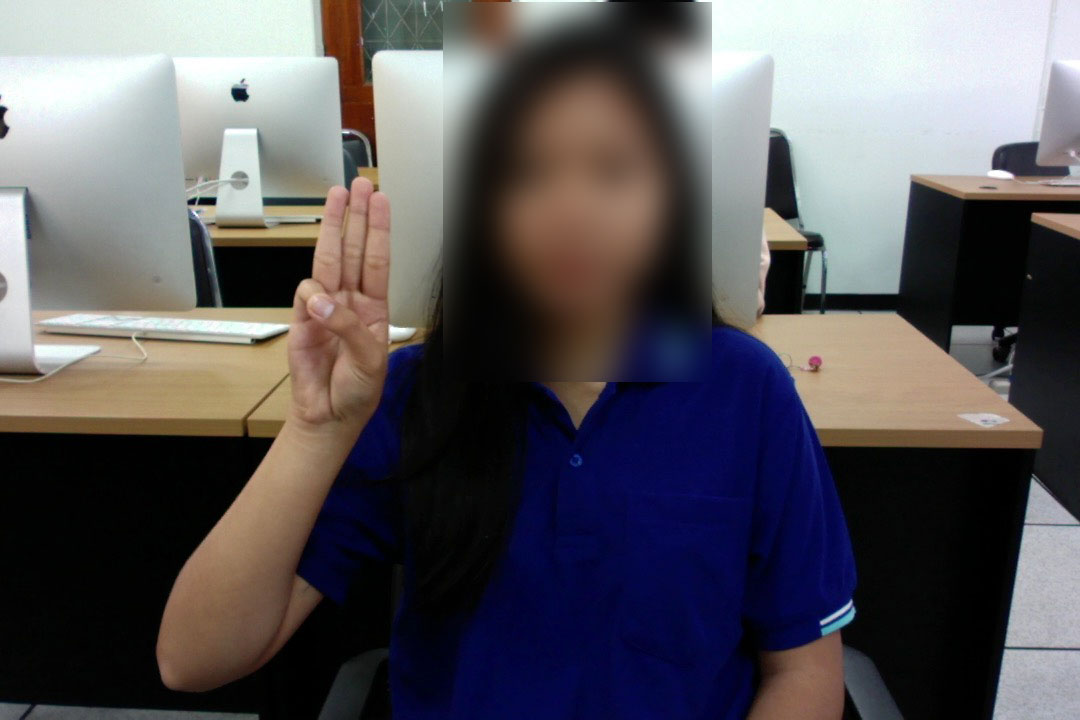wor: (287, 175, 402, 431)
